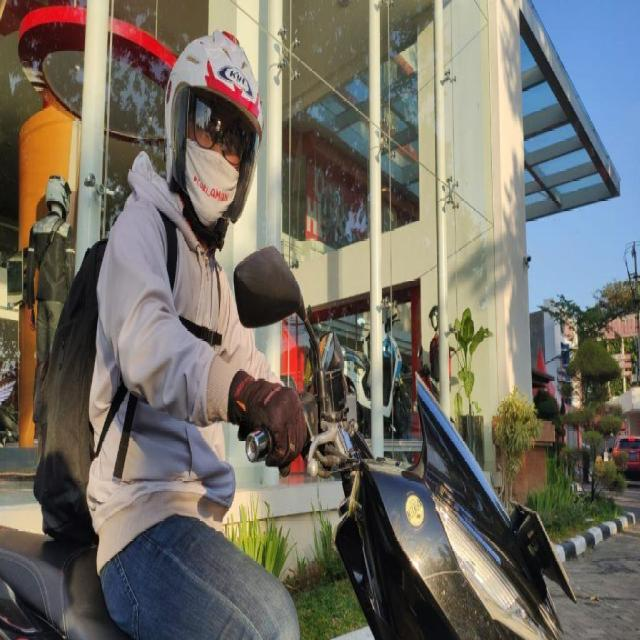Helmet: (164, 31, 265, 233)
